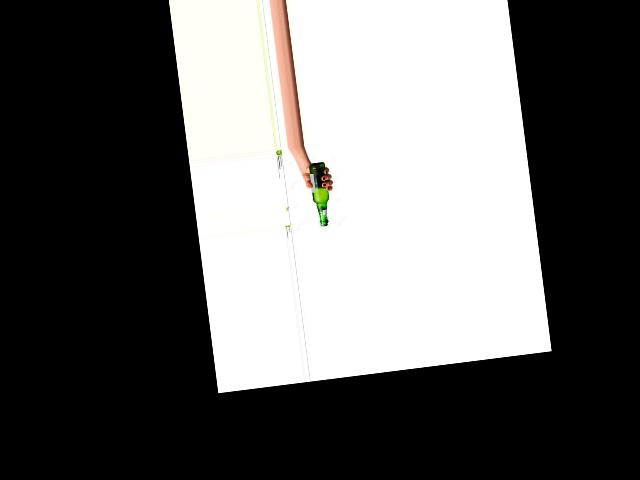beer: (307, 161, 333, 227)
